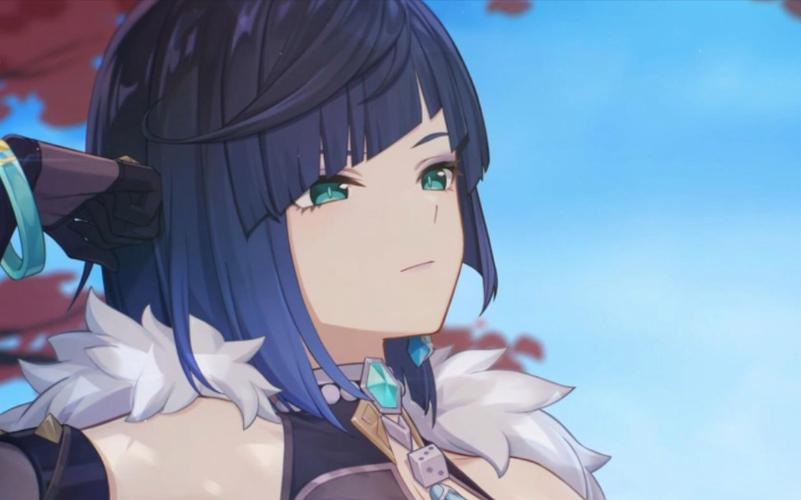夜兰: (1, 5, 608, 500)
